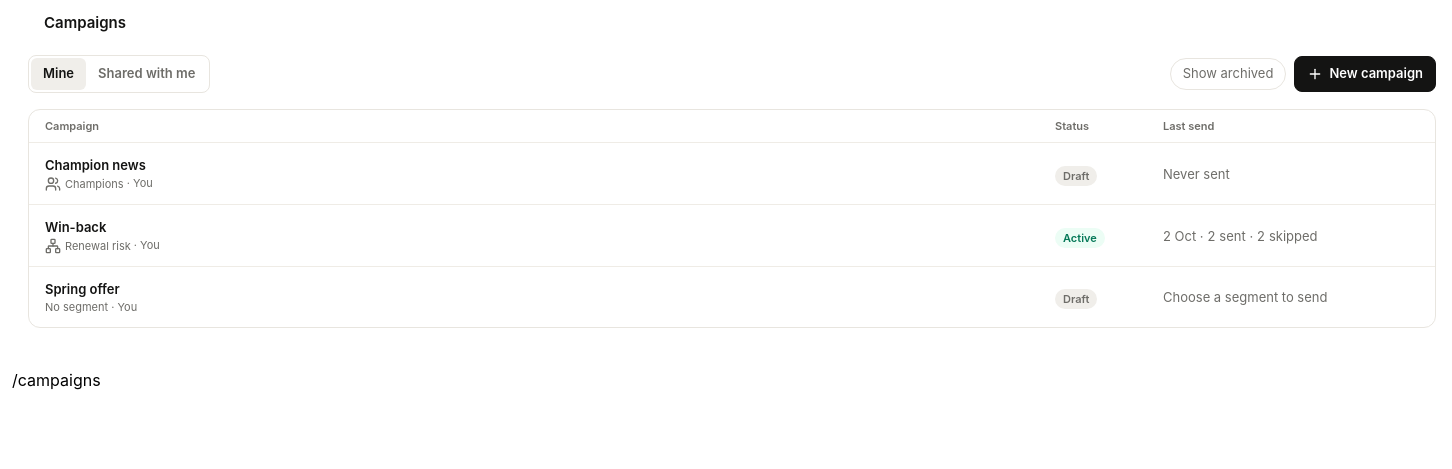
/campaigns (spec §2.1) › adds archived campaigns with Show archived, kept in the URL
Click the button "Show archived".
click(1228, 74)  # box [1170,58,1286,90]
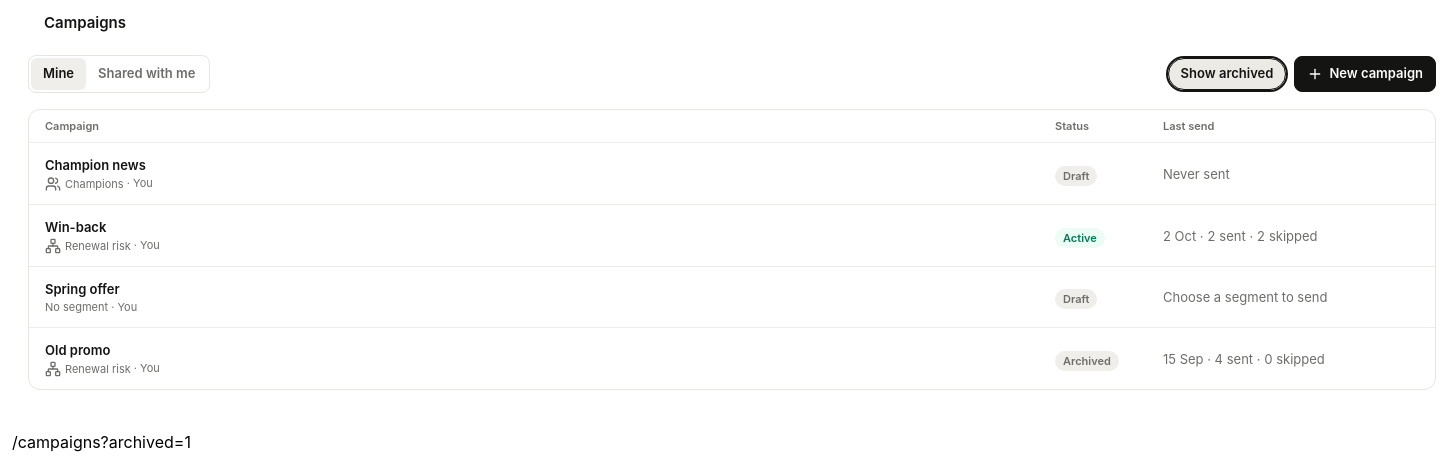
Check: the text with test id "where" reads "/campaigns?archived=1", box [12,432,191,452]
